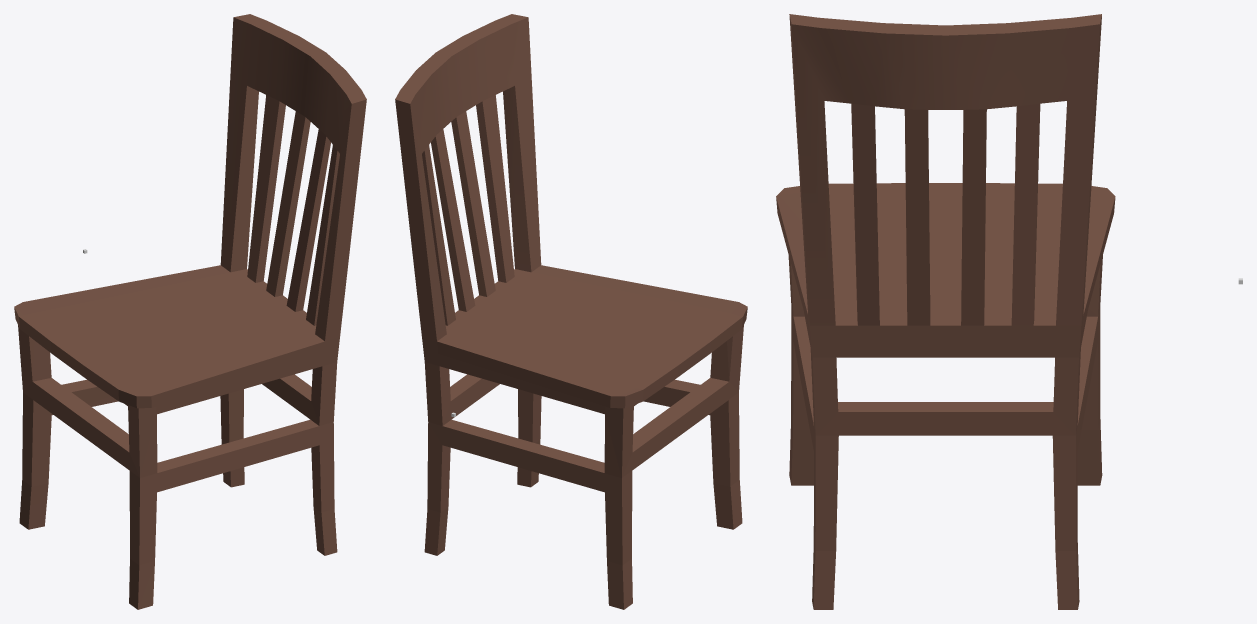
Rendered from abc.glb.
The picture shows the model from 3 angles, left to right: view 1: azimuth 30°, elevation 25°; view 2: azimuth 150°, elevation 25°; view 3: azimuth 270°, elevation 25°; orthographic projection. The views are drawn at different scales.
Parts seen in each view (by area): view 1: node-0; view 2: node-0; view 3: node-0.
Boxes of the visible parts, x1,y1,x2,y2 form: node-0: [14, 14, 366, 609]; node-0: [395, 14, 747, 609]; node-0: [776, 14, 1115, 609].
Bounding box in the file's own units: 182 × 305 × 215.
